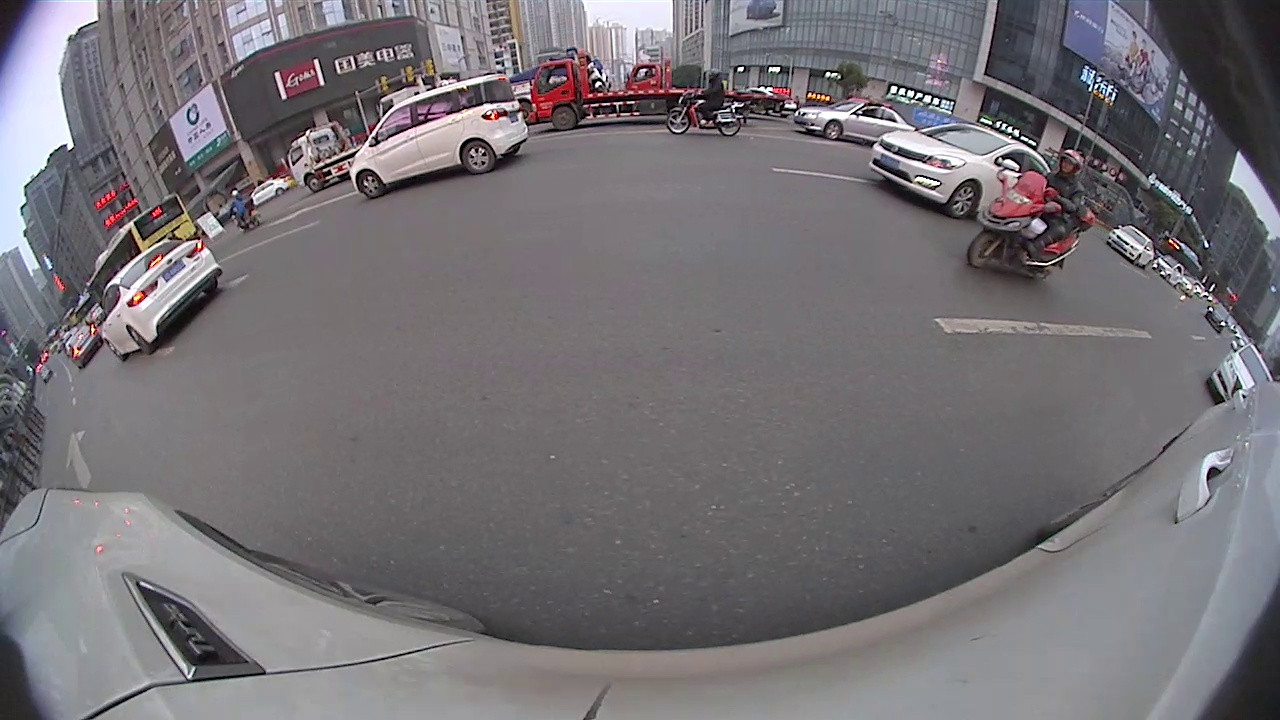bus: (86, 189, 194, 320)
car: (349, 71, 532, 201), (866, 121, 1057, 222), (93, 237, 229, 366), (794, 98, 921, 151), (1208, 344, 1279, 410), (1111, 227, 1162, 273)
front: (946, 180, 981, 221), (968, 230, 1003, 269), (358, 169, 385, 200), (666, 107, 693, 136), (550, 105, 576, 133), (825, 120, 843, 142), (305, 175, 323, 192)
rear: (461, 140, 497, 176), (125, 326, 153, 356), (717, 115, 744, 138)
rider: (967, 149, 1089, 284), (669, 72, 751, 144), (232, 190, 260, 233)
truck: (523, 44, 794, 139)
